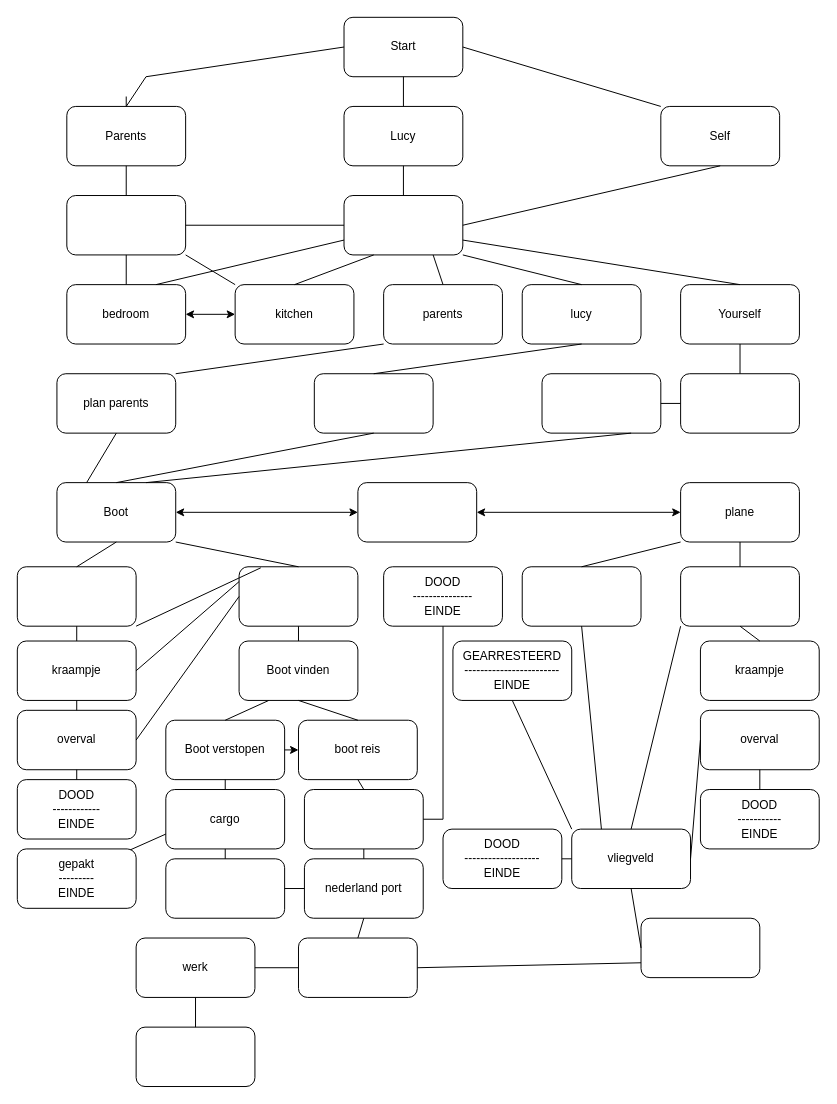
Some shapes in this 837 by 1104 pixel diagram are drawn without their labels. The centre of each missing label's shape, as x and y in pixels:
alleen: [739,403]
Escape plan: [417,512]
GOED ---------------- EINDE: [195,1056]
lopen: [739,596]
plan alleen: [601,403]
plan lucy: [373,403]
port: [298,596]
rooms: [126,225]
storm: [363,819]
street: [403,225]
taxi: [581,596]
vliegreis: [700,947]
vluchteling: [357,967]
weg boot: [76,596]
ziekte kans: [225,888]
